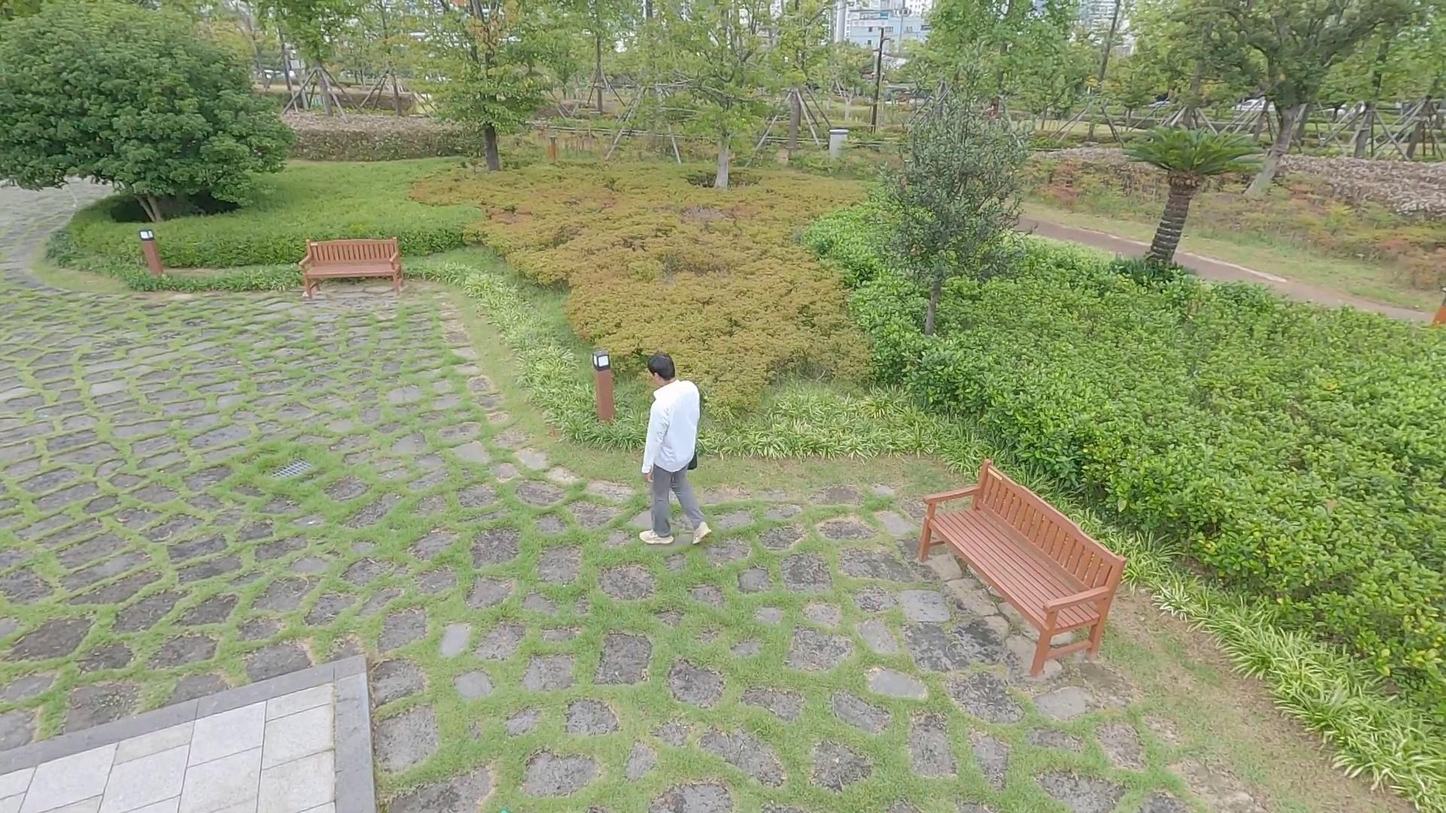person: (636, 352, 718, 552)
trash: (681, 446, 704, 476)
